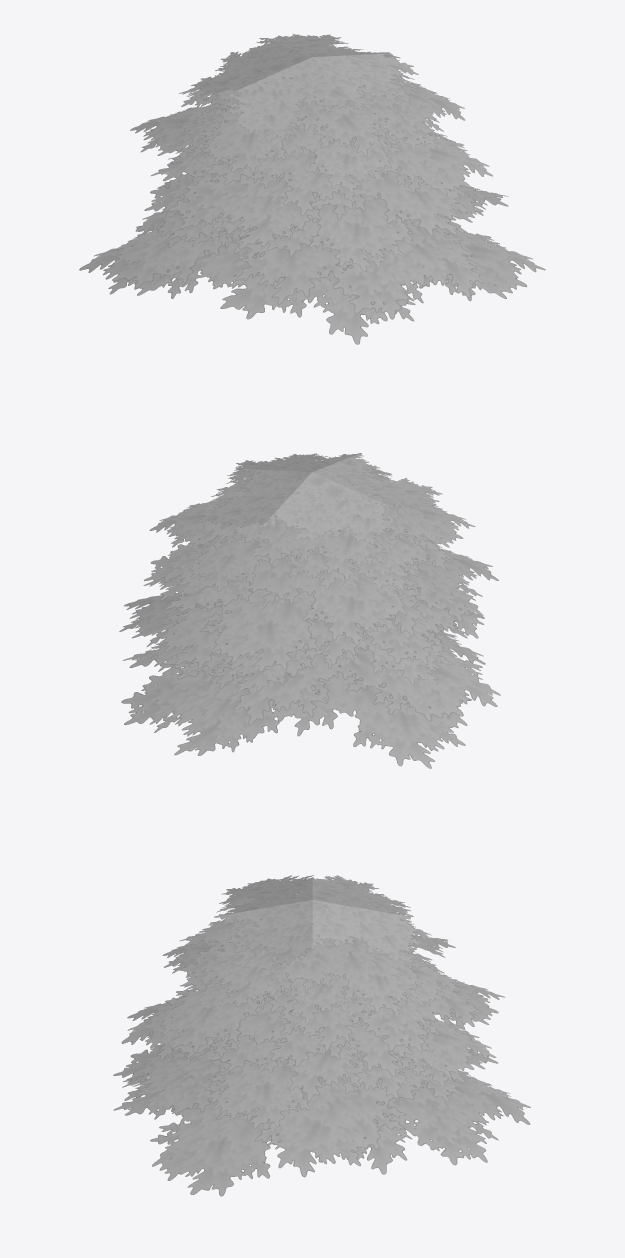
The model's file is leaves_white.fbx.
3 renders of one model, top to bottom at view 1: azimuth 30°, elevation 25°; view 2: azimuth 150°, elevation 25°; view 3: azimuth 270°, elevation 25°, orthographic.
Visible parts, largest first — view 1: Cone; view 2: Cone; view 3: Cone.
Boxes of the visible parts, left/top/right/bottom form: Cone: left=79, top=34, right=545, bottom=344; Cone: left=119, top=453, right=500, bottom=768; Cone: left=113, top=875, right=530, bottom=1196.
Size of the model in its own units: 765 by 346 by 804.
